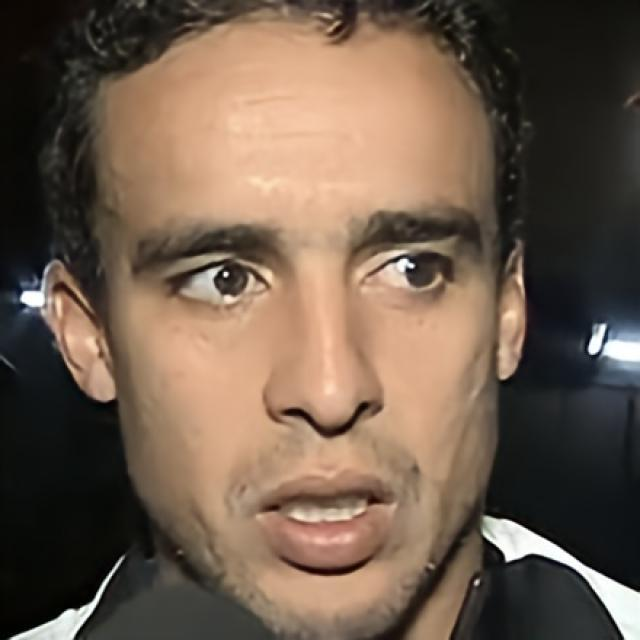fear: (88, 11, 507, 640)
